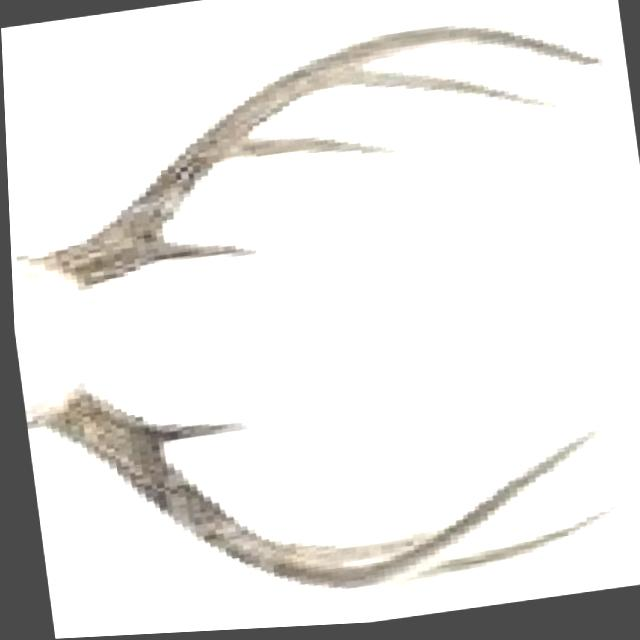L-F: (30, 29, 610, 285)
L-G1: (152, 241, 262, 263)
L-G2: (225, 136, 411, 161)
L-G3: (338, 70, 564, 117)
R-F: (22, 387, 606, 590)
R-G1: (142, 421, 253, 442)
